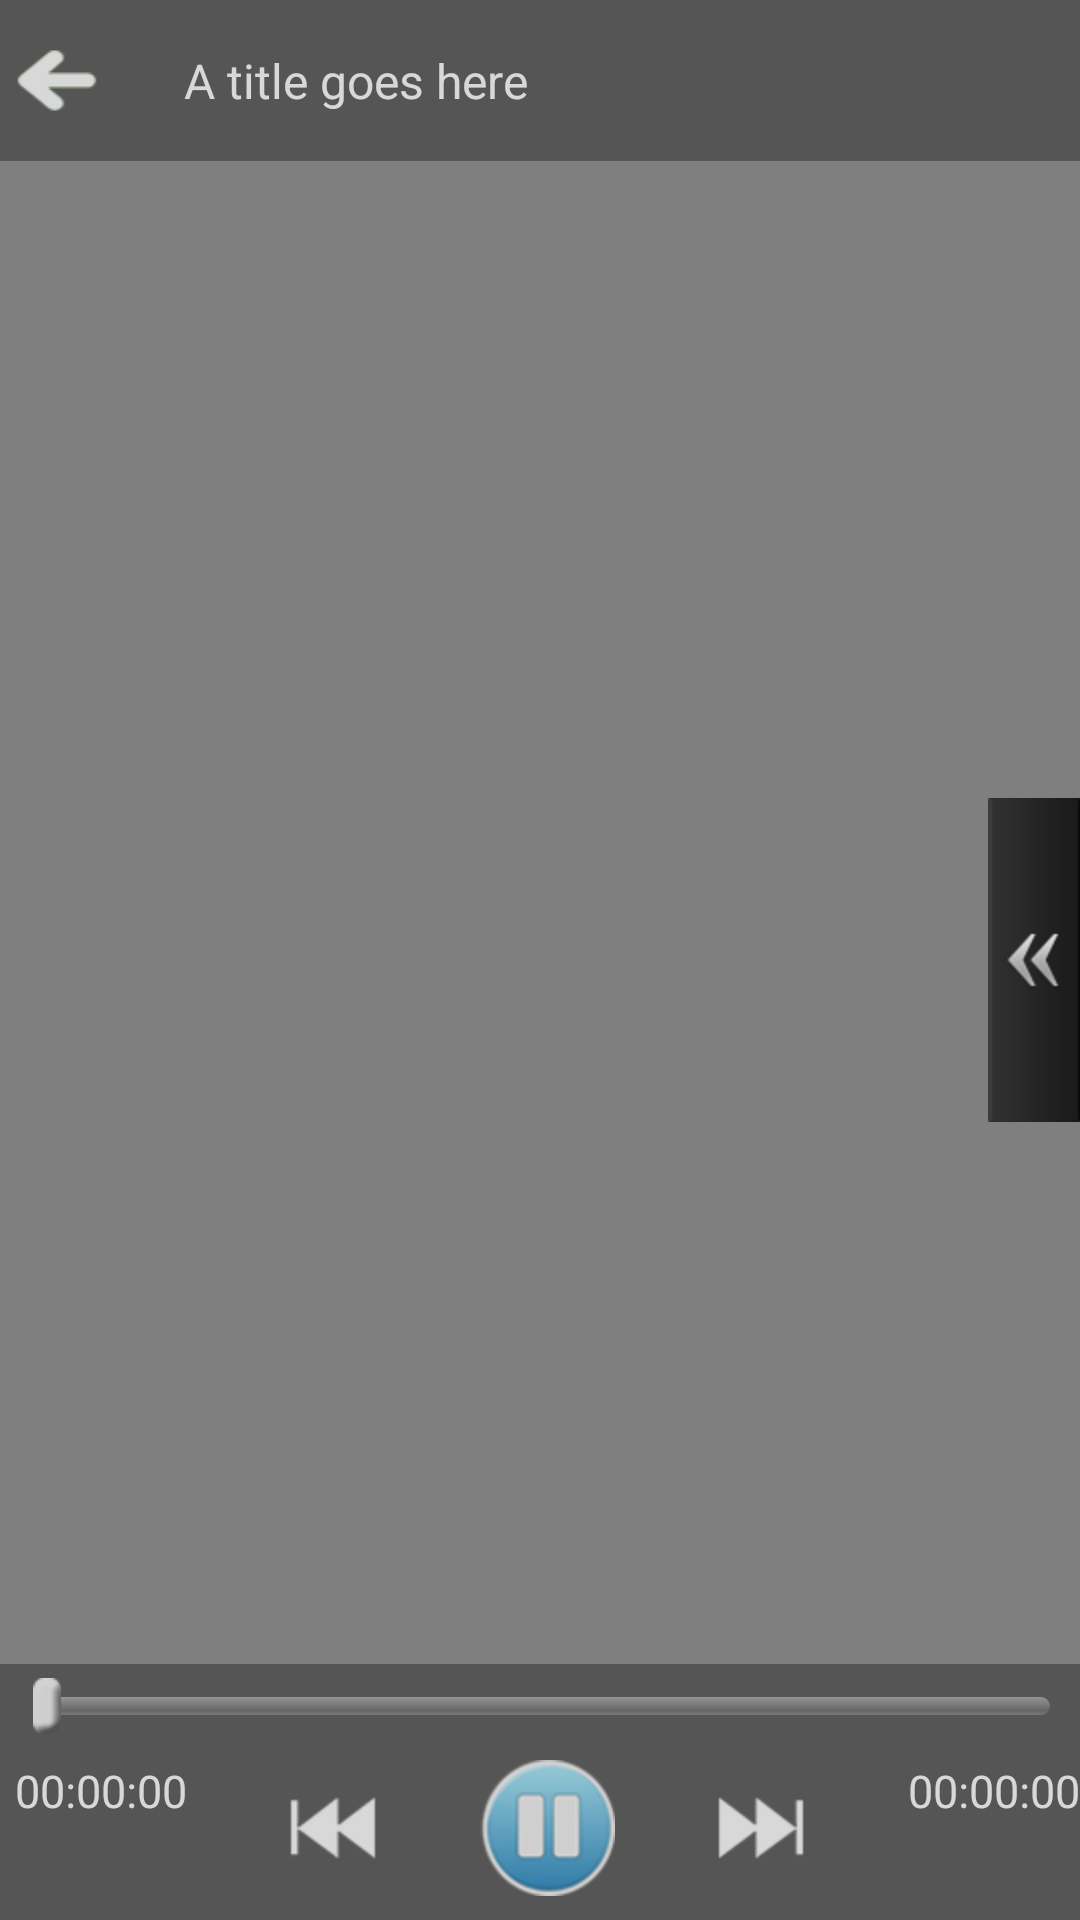

Point at icon controls on the screen. Image size 1080 x 1920, points as point (x, y).
els player chapter off: point (1034, 960)
next: point (761, 1828)
pause: point (548, 1828)
play go back: point (56, 80)
pre: point (333, 1828)
